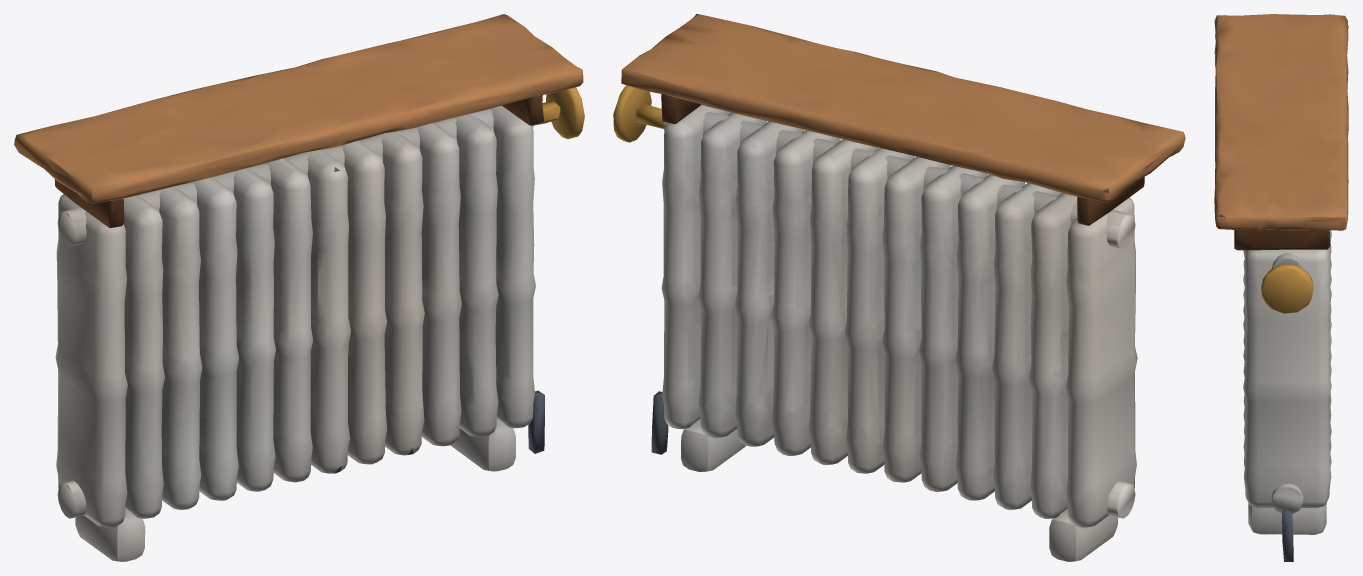
File: frost_radiator_lod1.glb
3 renders of one model, left to right at view 1: azimuth 30°, elevation 25°; view 2: azimuth 150°, elevation 25°; view 3: azimuth 270°, elevation 25°, orthographic. The views are drawn at different scales.
Visible parts, largest first — view 1: frost_radiator.001; view 2: frost_radiator.001; view 3: frost_radiator.001.
Part boxes in pixels (bbox=[...]): frost_radiator.001: bbox=[14, 14, 584, 561]; frost_radiator.001: bbox=[613, 14, 1185, 561]; frost_radiator.001: bbox=[1214, 14, 1348, 561].
Size of the model in its own units: 42.27 by 31.93 by 11.18.
